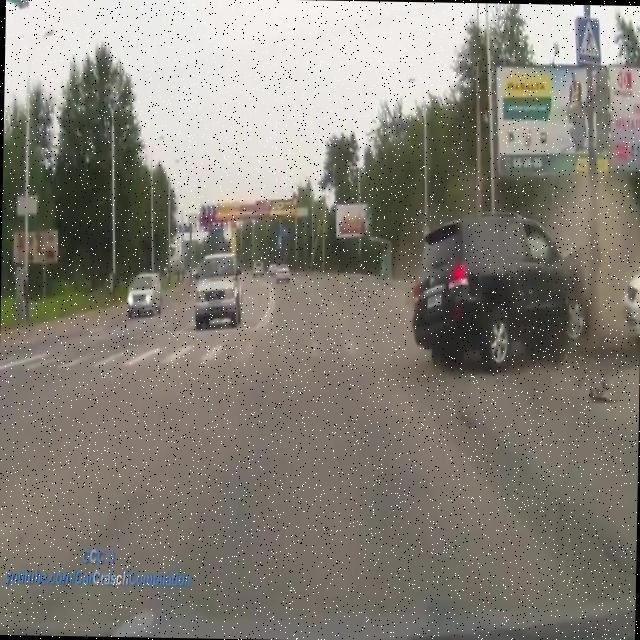accident: (406, 203, 604, 380)
